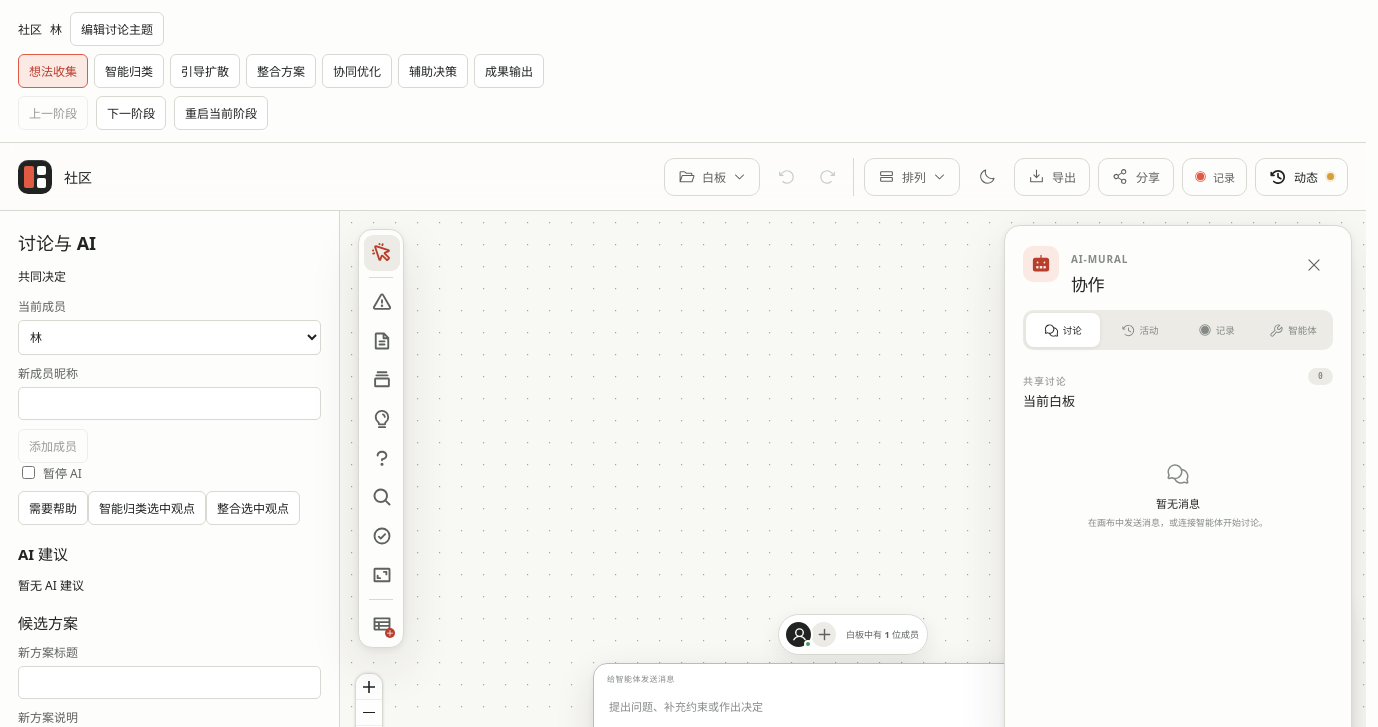
Scenario: 不自动求助，选择一组真实观点主动请求整合，待确认时白板不变
Step 1. Click the button "整合选中观点" → {"x": 253, "y": 508}, box [206, 491, 300, 525]
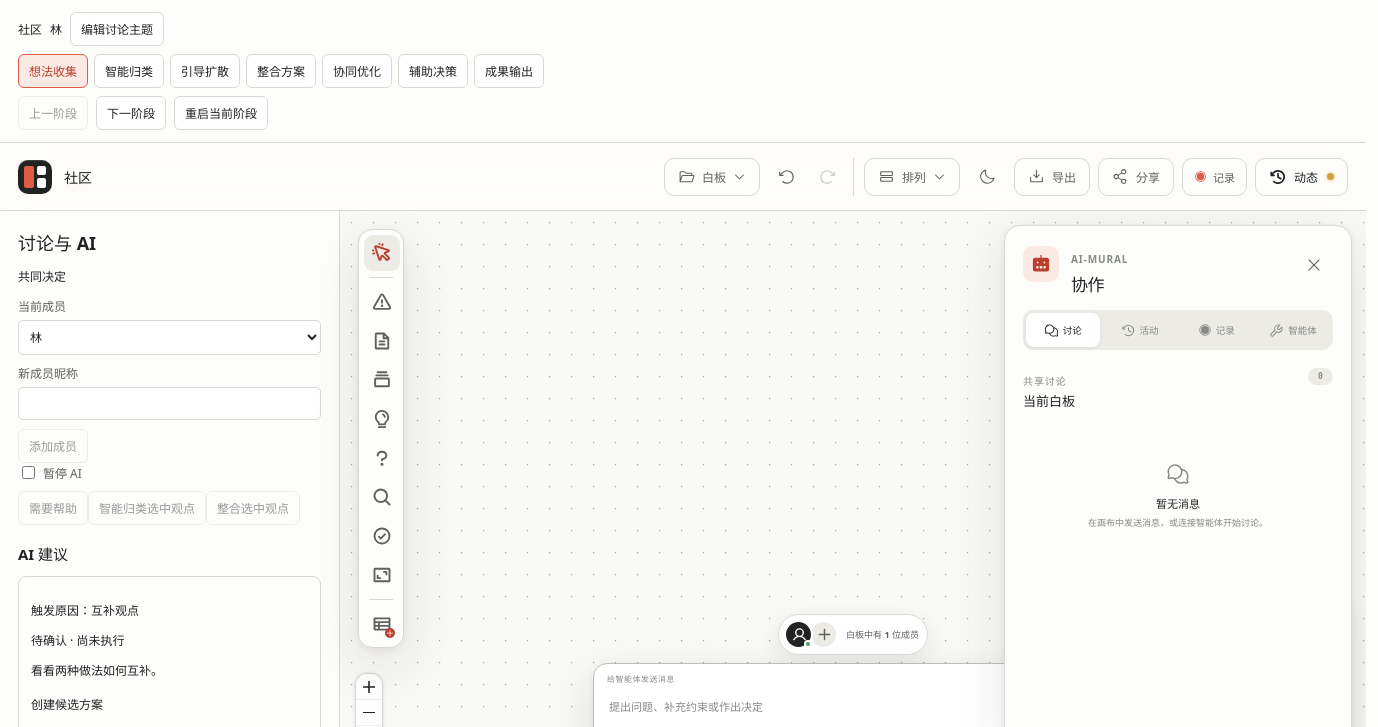
Expected: the text "看看两种做法如何互补。" is shown, [31, 662, 163, 679]
Expected: the text "触发原因：互补观点" is shown, [31, 602, 139, 619]
Expected: the button "需要帮助" is disabled, [18, 491, 88, 525]
